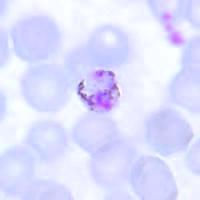Infected: (76, 69, 122, 113)
